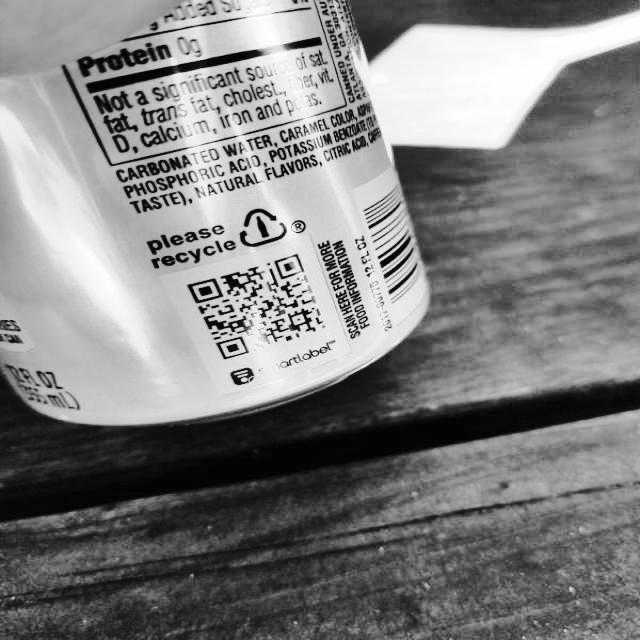qr_code: (172, 243, 341, 375)
